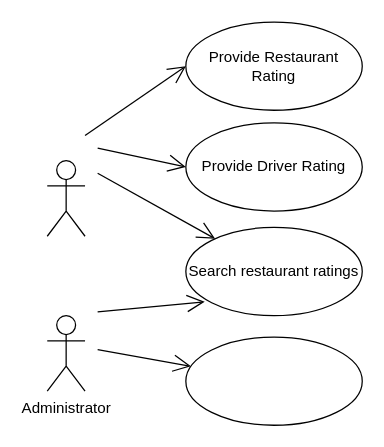
Image size: 384x447. Some labels were removed from this diagram. Each missing label, with the centre of its shape:
"Customer" goes at point (65, 197).
"Search driver ratings" goes at point (273, 380).
